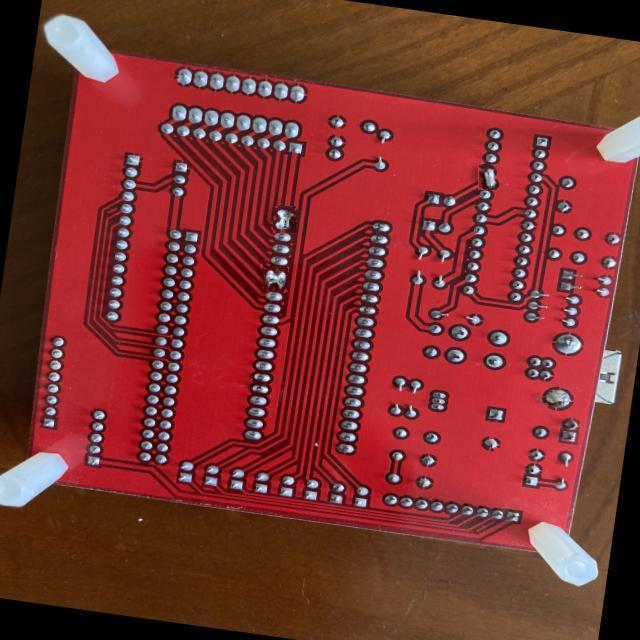damged: (264, 266, 289, 292), (274, 206, 298, 233), (478, 164, 501, 190)
